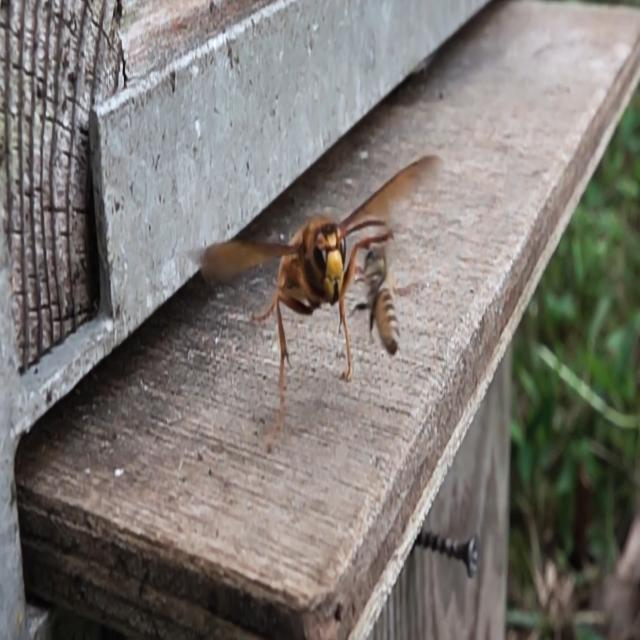Bees: (352, 245, 416, 364)
Hornets: (232, 155, 364, 381)
